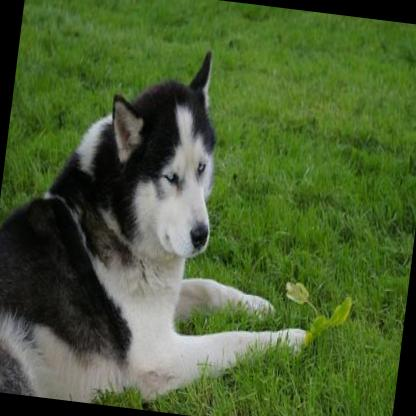Eskimo_dog: (0, 23, 348, 416)
